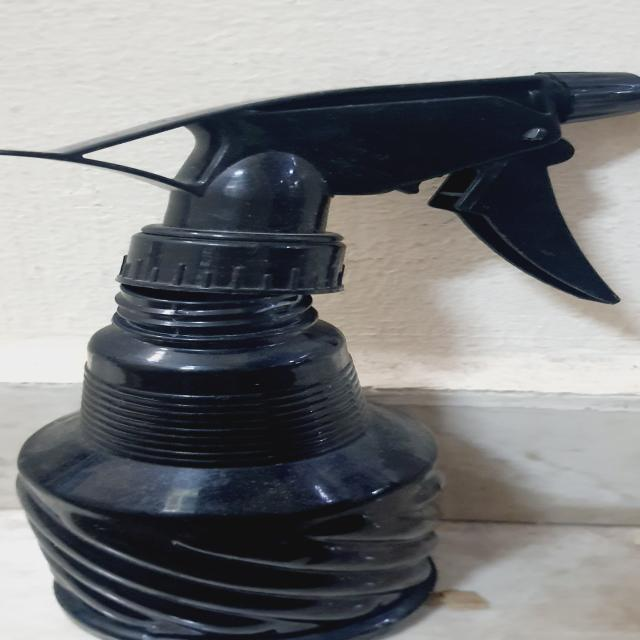plastic: (15, 69, 640, 640)
